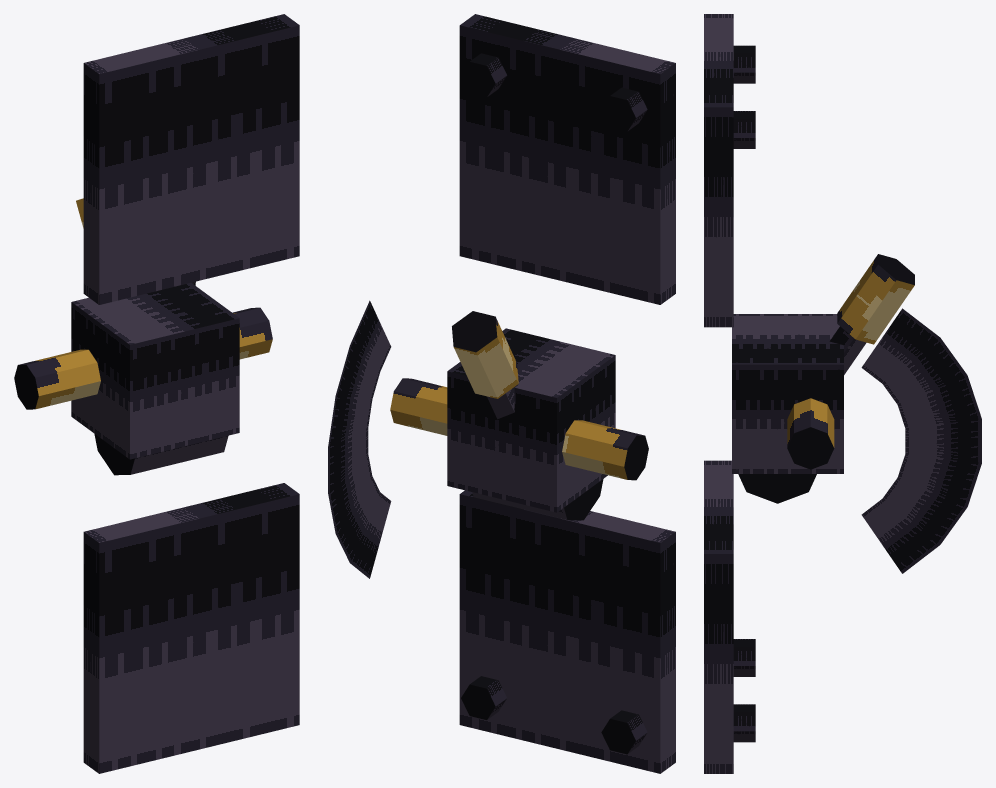
File: IND-02_Palanca_de_pared.gltf
3 renders of one model, left to right at view 1: azimuth 30°, elevation 25°; view 2: azimuth 150°, elevation 25°; view 3: azimuth 270°, elevation 25°, orthographic. The views are drawn at different scales.
Parts seen in each view (by area): view 1: IND-02_Palanca_de_pared-convcol; view 2: IND-02_Palanca_de_pared-convcol; view 3: IND-02_Palanca_de_pared-convcol.
Part boxes in pixels (<box>): IND-02_Palanca_de_pared-convcol: <box>14,14,299,773</box>; IND-02_Palanca_de_pared-convcol: <box>328,14,675,773</box>; IND-02_Palanca_de_pared-convcol: <box>704,14,981,773</box>.
Bounding box in the file's own units: 0.35 × 1 × 0.3775.
1 material, 1 textured.
